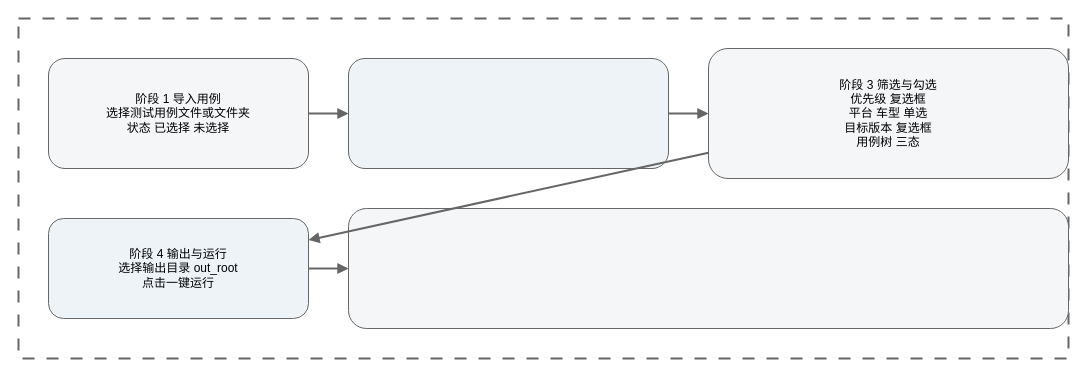
Some shapes in this 1086 by 376 pixel diagram are drawn without their labels. Each missing label, with the centre of its shape:
"输出成果物 testmodule can xml cin Configuration DIDInfo DIDConfig uds log 时间戳日志" goes at point 708,268.
"阶段 2 关联配置 IO_Mapping DID_Config ResetDid_Value Clib UDS_ECU_qualifier" goes at point 508,113.
